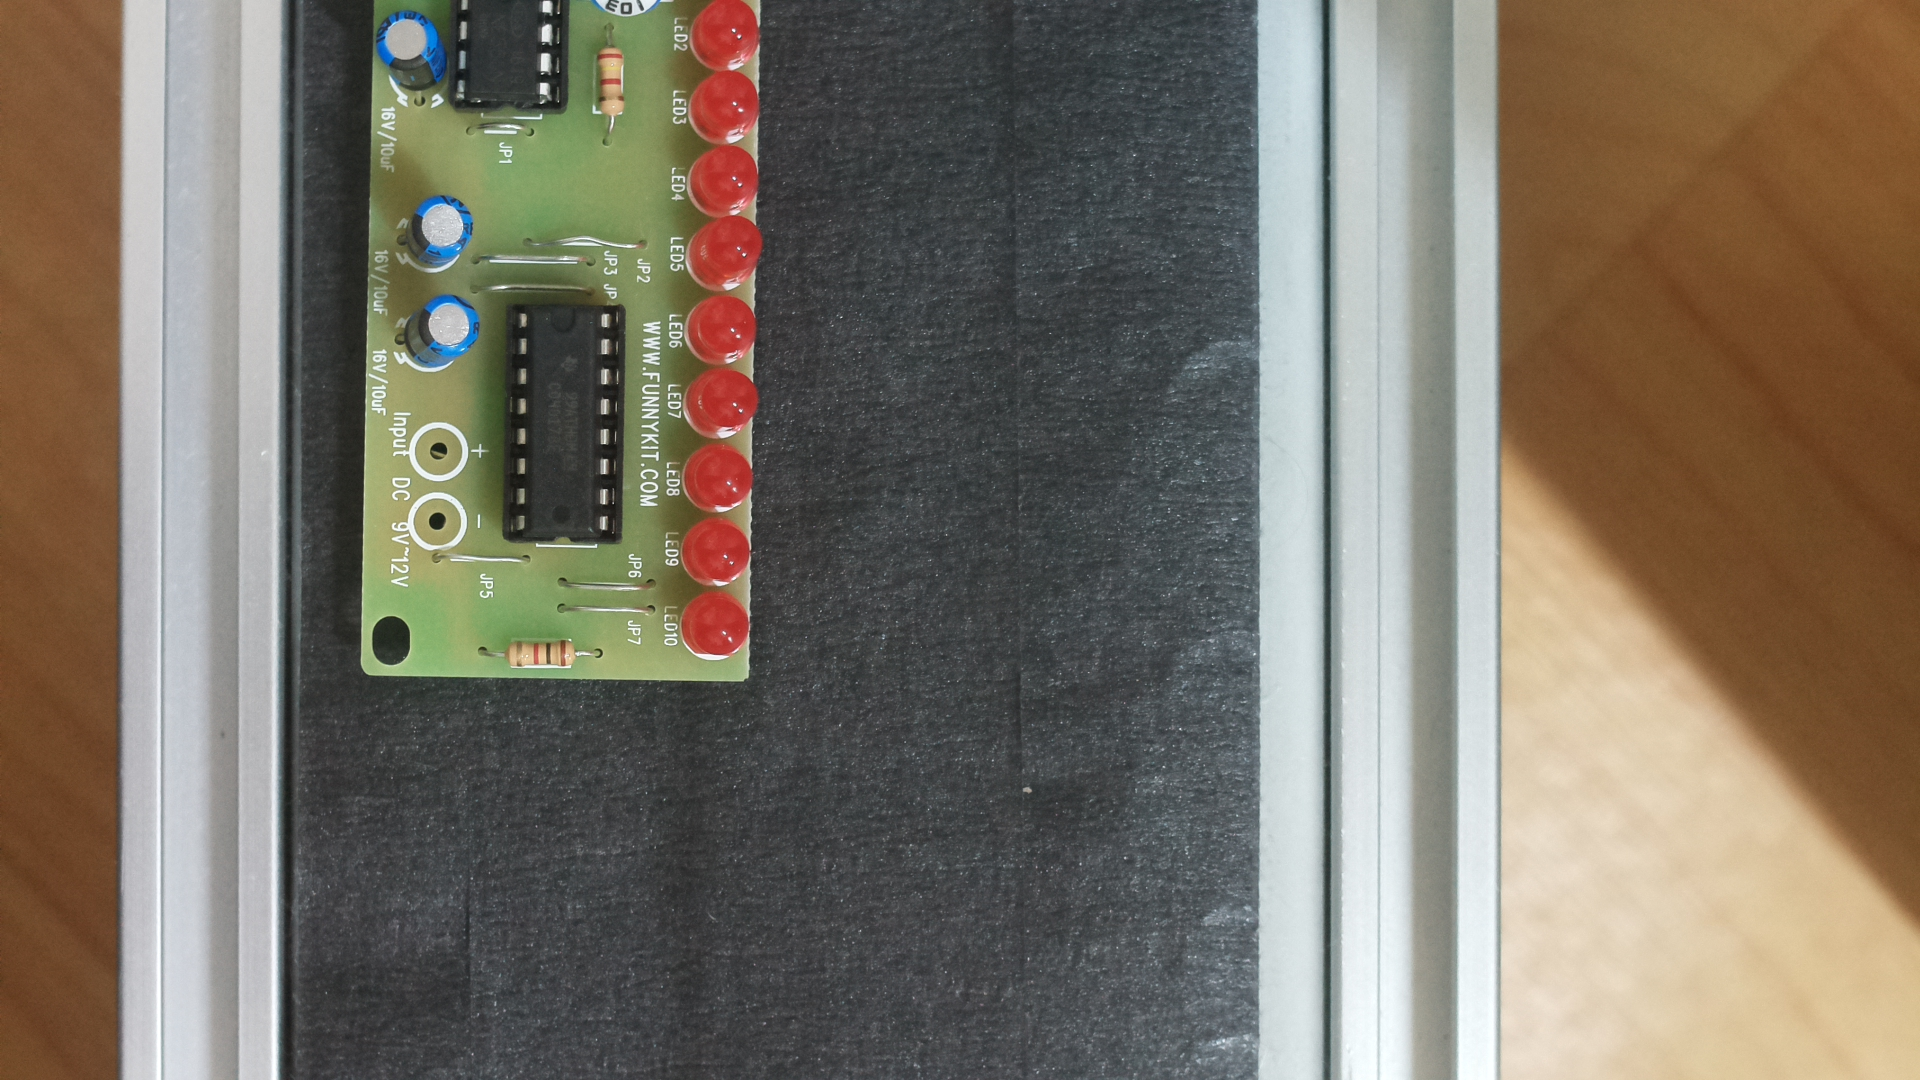B_Normal: (357, 8, 764, 717)
